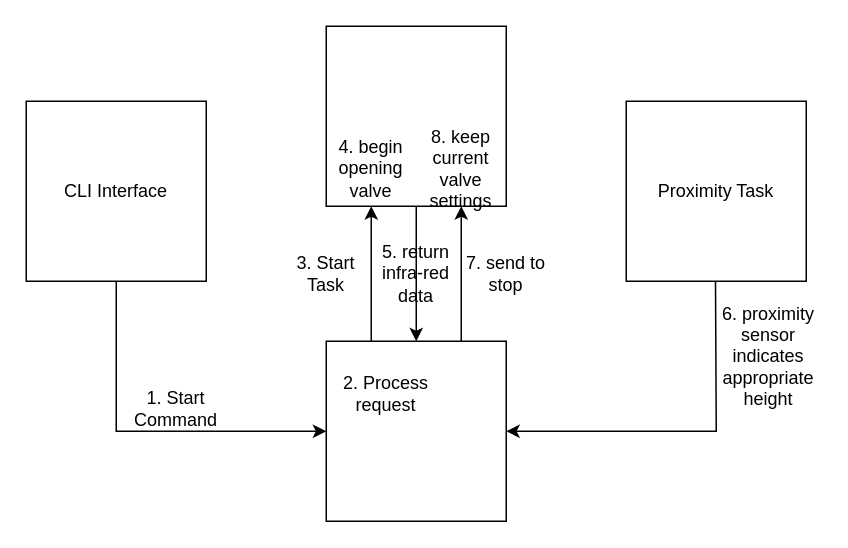
The diagram is 848 pixels wide and 548 high, and some of its shapes have lost their labels. Each missing label, with the box of its shape:
Logic Control: (325, 340, 506, 521)
Valve Control Task: (325, 25, 506, 206)
